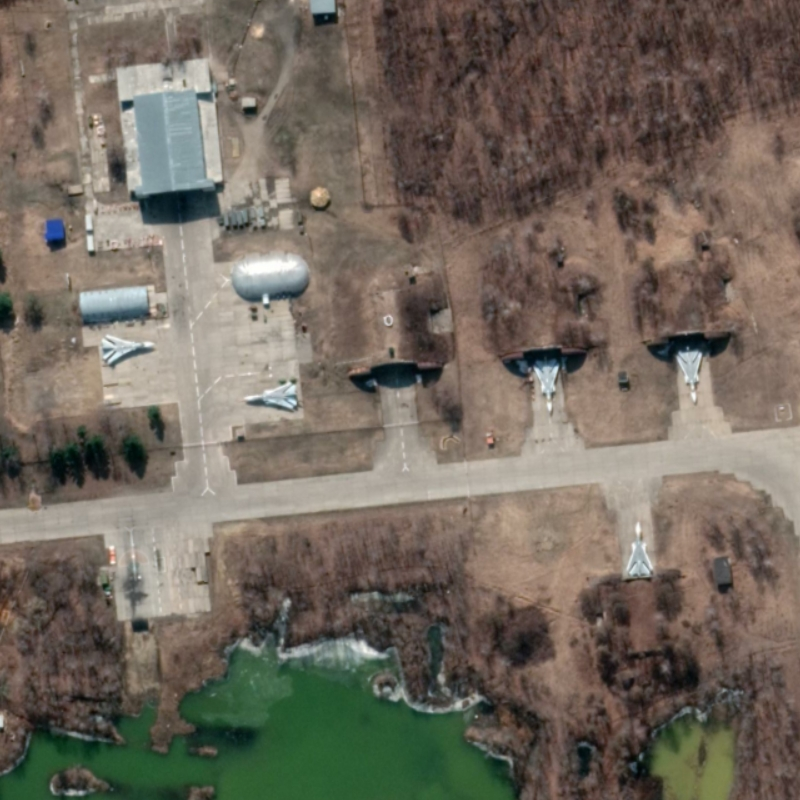A20: (624, 519, 655, 579), (100, 333, 156, 366), (674, 344, 704, 405), (243, 380, 300, 412), (531, 354, 561, 413)
